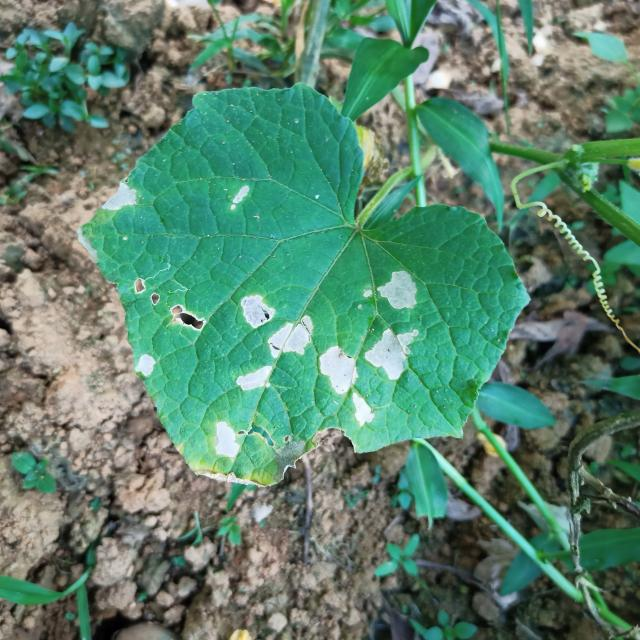disease_cucumber: (318, 344, 376, 425), (241, 295, 311, 359), (132, 274, 204, 332), (363, 326, 419, 380), (361, 271, 419, 311), (102, 180, 138, 212), (214, 419, 239, 457), (236, 364, 272, 390), (229, 183, 249, 210), (136, 351, 155, 376)
